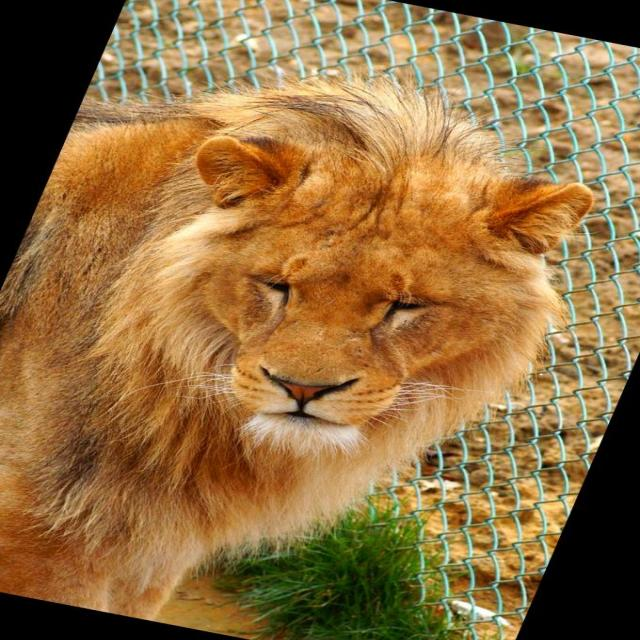Lion: (0, 25, 639, 639)
